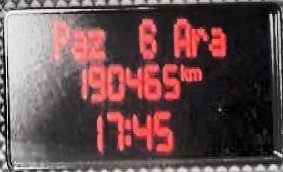0: (105, 62, 123, 98)
1: (91, 110, 104, 152), (76, 64, 87, 99)
4: (131, 109, 152, 150), (124, 64, 141, 99)
5: (152, 108, 173, 152), (160, 60, 179, 99)
6: (137, 15, 156, 57), (143, 60, 160, 99)
7: (104, 108, 123, 152)
9: (87, 64, 106, 100)
X: (50, 17, 69, 60), (172, 15, 189, 57), (208, 23, 227, 57), (87, 27, 106, 58), (71, 27, 87, 58), (191, 24, 207, 55), (123, 115, 130, 147), (188, 64, 200, 80), (179, 60, 188, 80)
